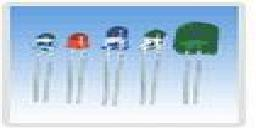LED: (175, 19, 221, 110), (137, 30, 167, 111), (102, 25, 131, 108), (61, 29, 90, 103), (34, 33, 57, 106)
